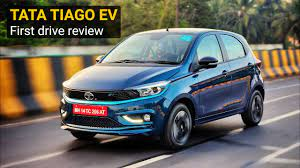Tiago: (58, 26, 266, 151)
